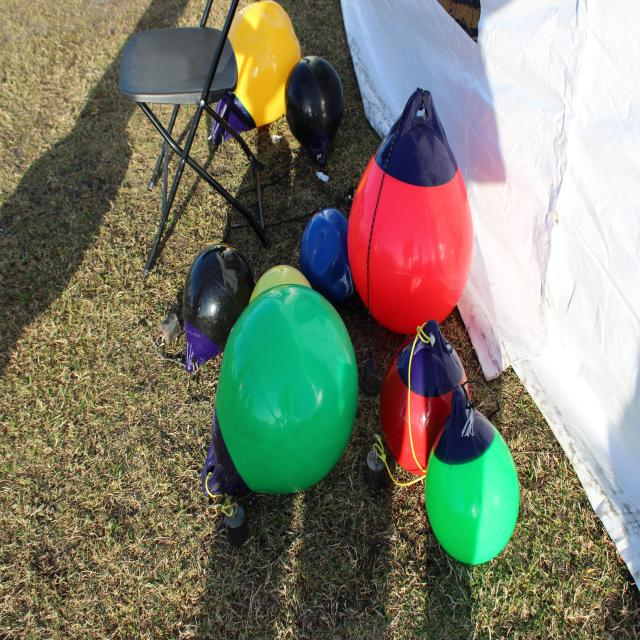green-buoy: (218, 260, 364, 496), (423, 417, 526, 568)
red-buoy: (351, 86, 479, 337)
